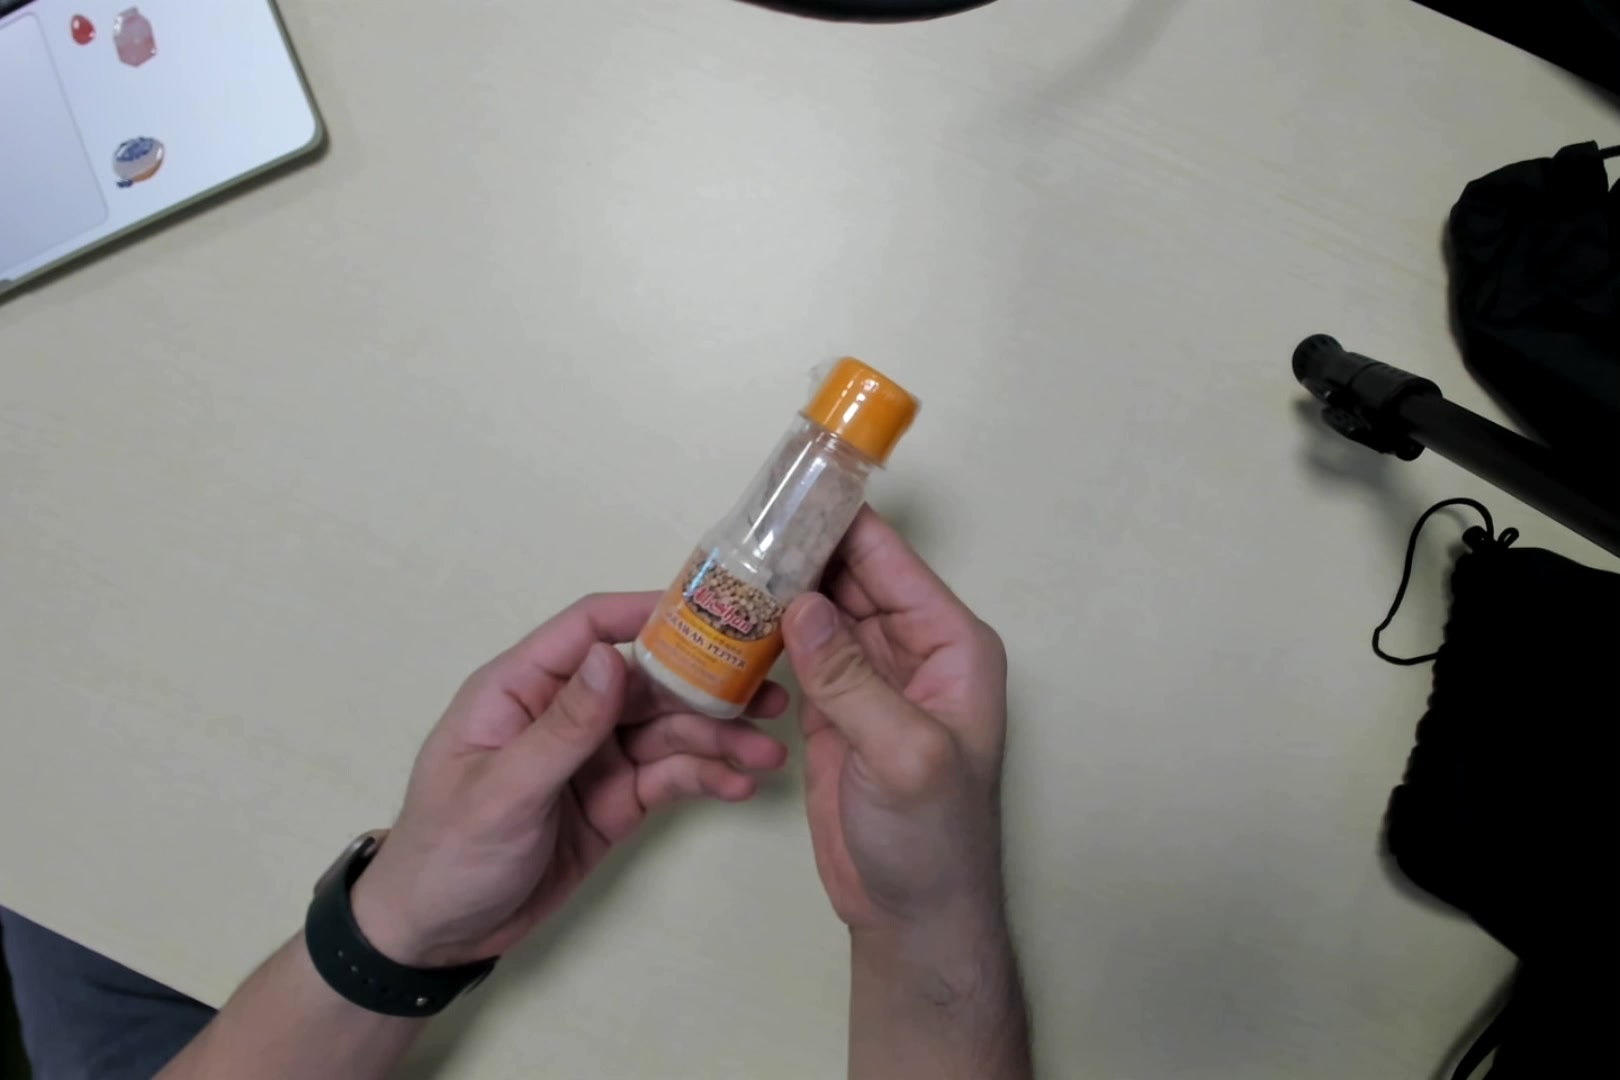HeabsSpicesPepper_0-99g_NonHalal_NonHealthy: (620, 356, 918, 724)
